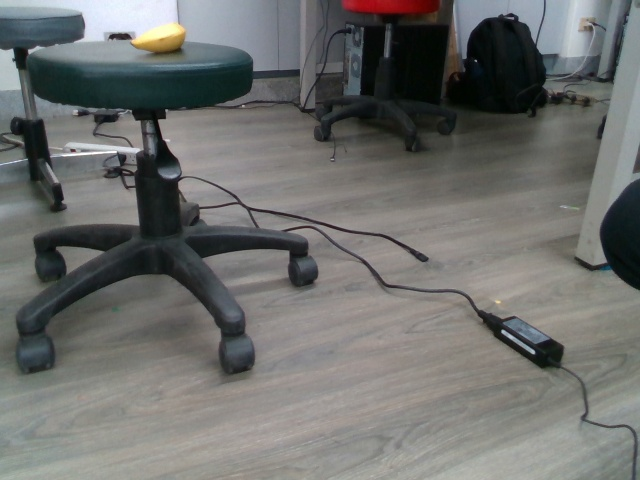banana: (132, 21, 190, 53)
